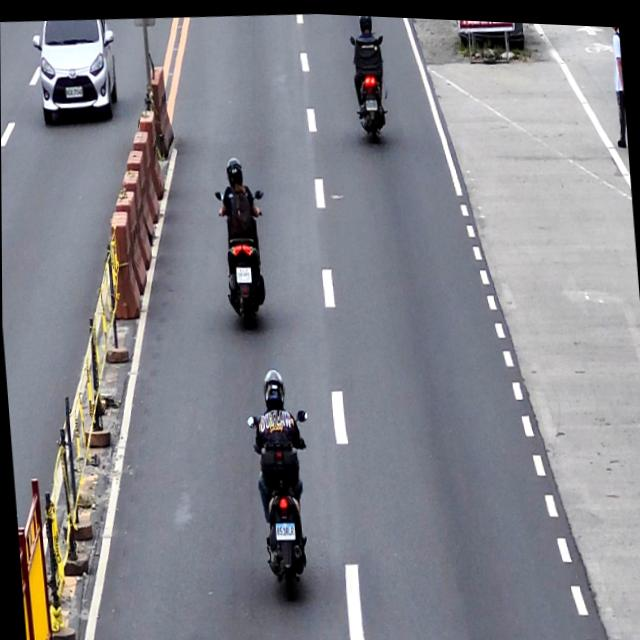License-Plate: (272, 517, 296, 539), (234, 263, 252, 282), (365, 94, 377, 108)
Motorcycle: (246, 401, 319, 595), (212, 179, 273, 325), (349, 27, 391, 141)
